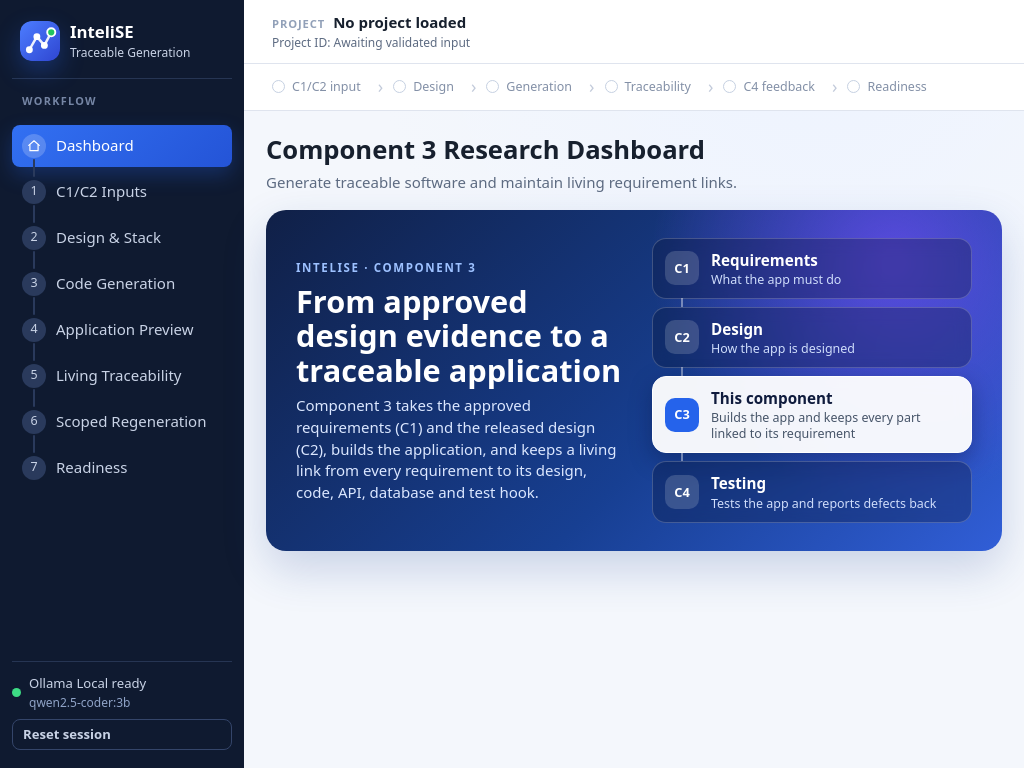
Test: GPA generation on the Code Generation page › generates from the uploaded C1/C2 2.0 files when they are there, not from the sample
Click the button "3 Code Generation" at (122, 284), box [12,262,232,304]
(page scrolled)
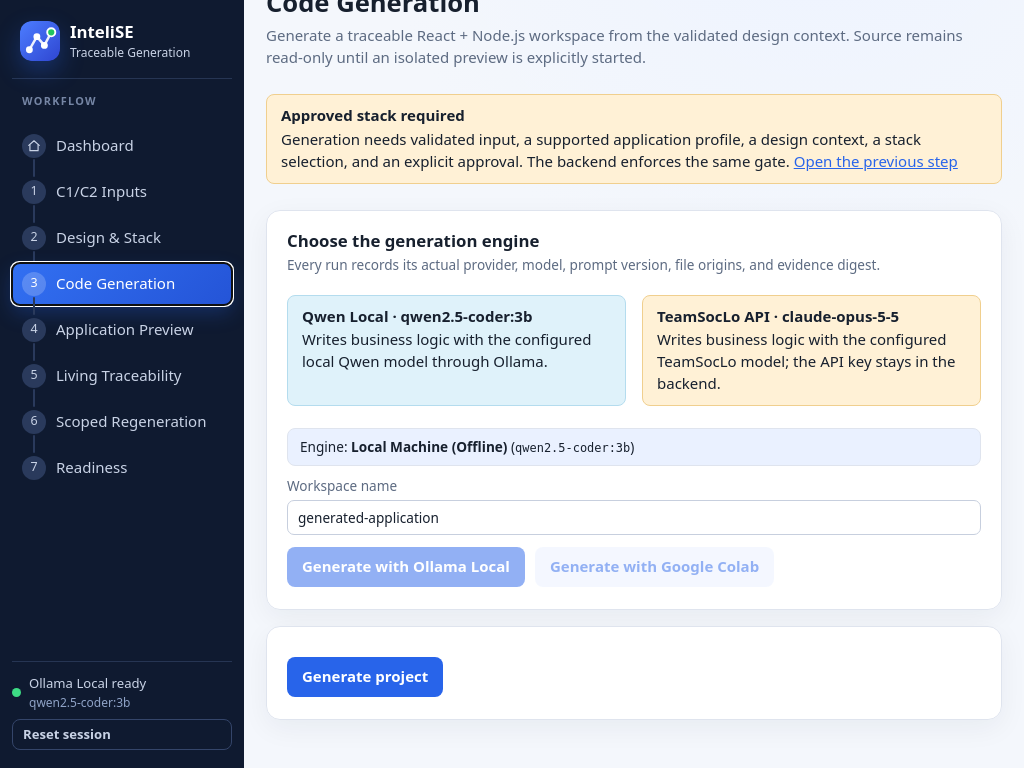
Click the button "Generate project" at (365, 677), box [287,657,443,697]
(page scrolled)
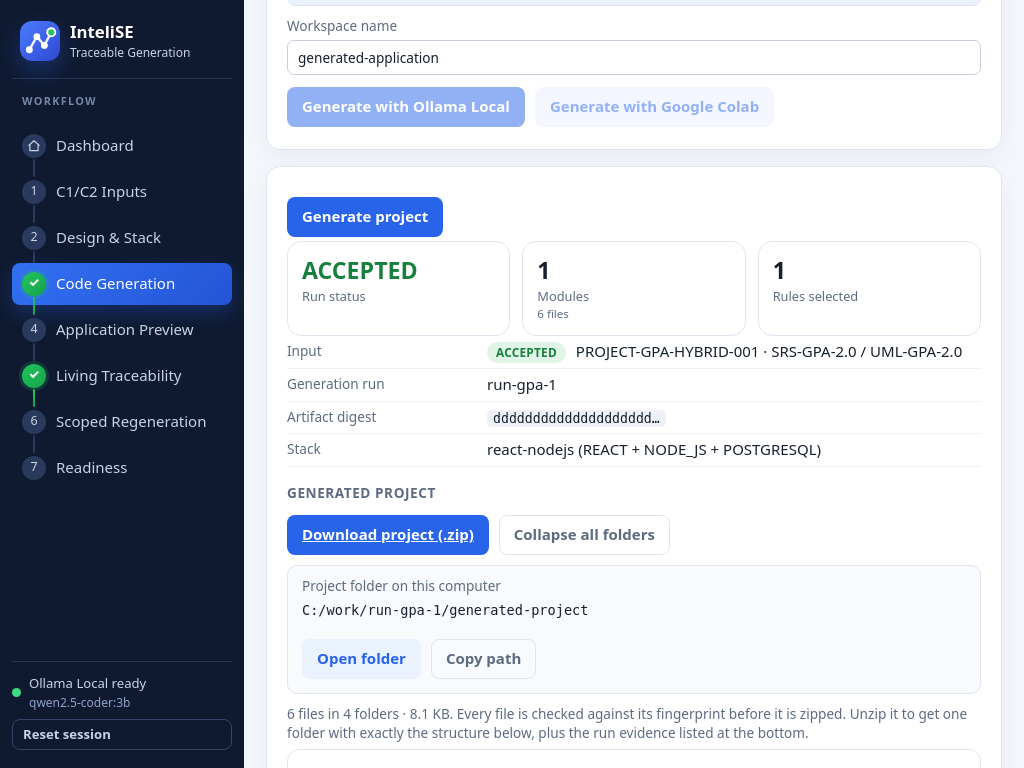
Check: the text "run-gpa-1" is shown, box [487,374,557,394]
